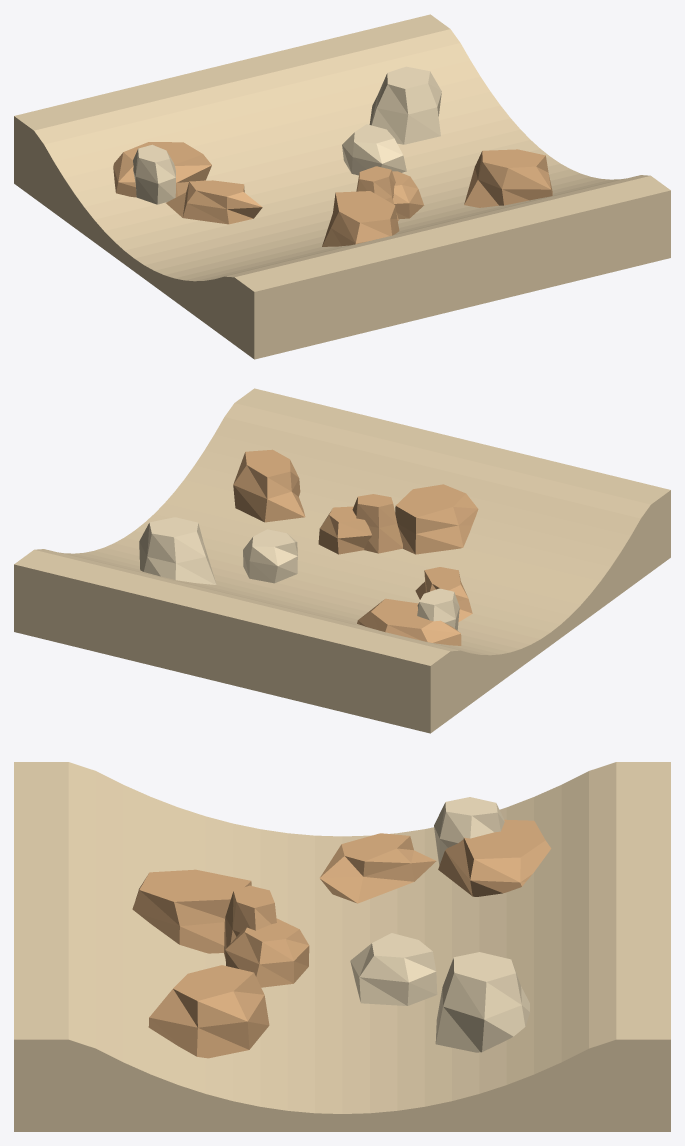
Rendered from desert-canyons-and-oases-boulder-wash-75e90934__20968.glb.
3 views of the same model, one above another, from view 1: azimuth 30°, elevation 25°; view 2: azimuth 150°, elevation 25°; view 3: azimuth 270°, elevation 25° (orthographic). The views are drawn at different scales.
Parts seen in each view (by area): view 1: boulder-wash; view 2: boulder-wash; view 3: boulder-wash.
Part boxes in pixels (x1,y1,x2,y2): boulder-wash: (14,14,670,359); boulder-wash: (14,388,670,733); boulder-wash: (14,762,670,1131).
Bounding box in the file's own units: 4 × 0.7037 × 4.
